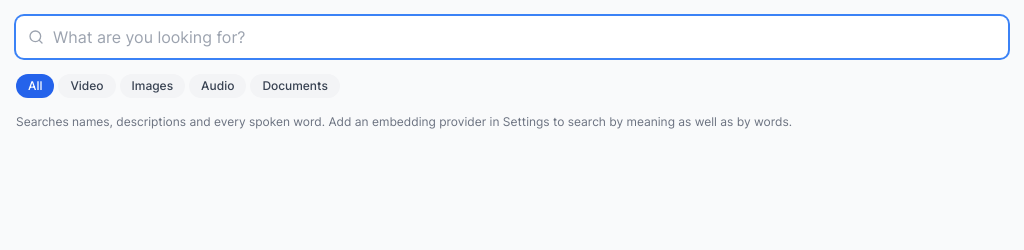
SearchView › says when meaning-based search is unavailable rather than silently degrading
Type "nano" into the field with placeholder "What are you looking for?".
click(512, 37); type("nano")  # box [16, 16, 1008, 58]
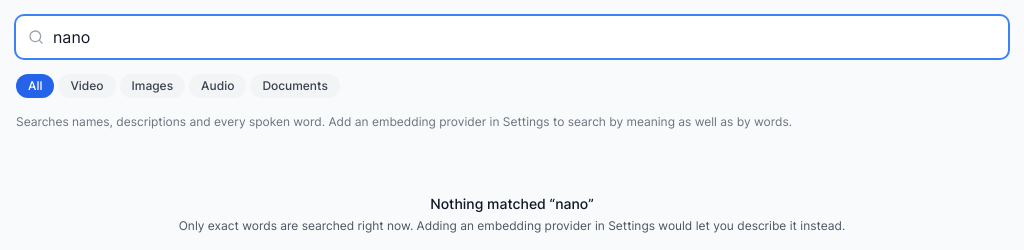
Expected: the text "Nothing matched “nano”" is shown, [430, 195, 594, 212]
Expected: the text "Only exact words are searched" is shown, [179, 218, 845, 233]
